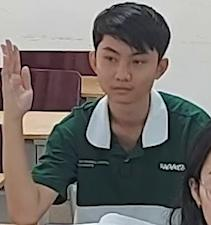Raising_Hand: (0, 0, 198, 224)
